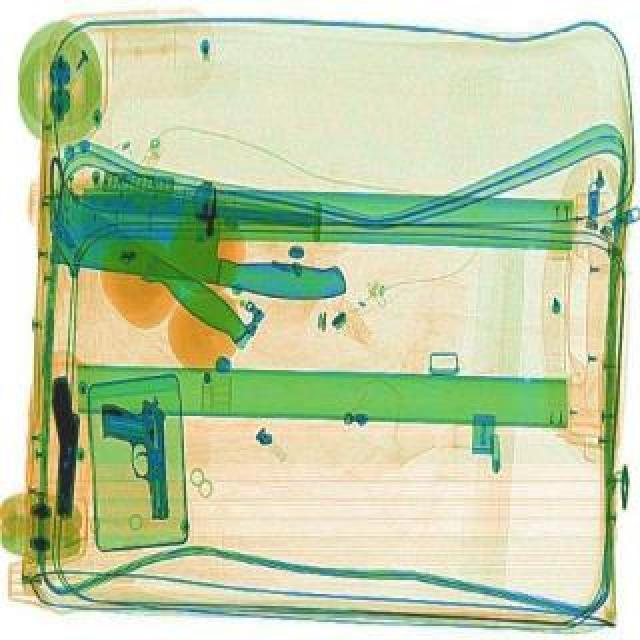gun: (98, 394, 172, 522), (50, 370, 80, 518)
knife: (44, 180, 356, 304), (52, 184, 256, 346), (74, 178, 314, 232)
